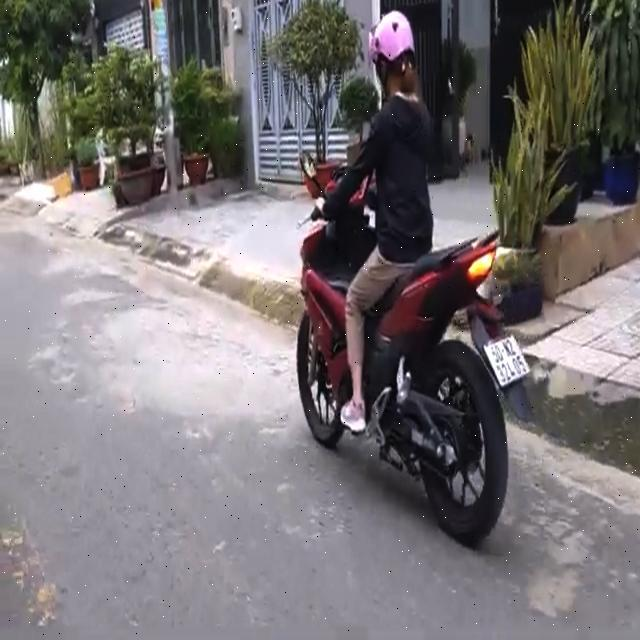motorcycle: (271, 132, 541, 549)
plate: (476, 332, 533, 387)
